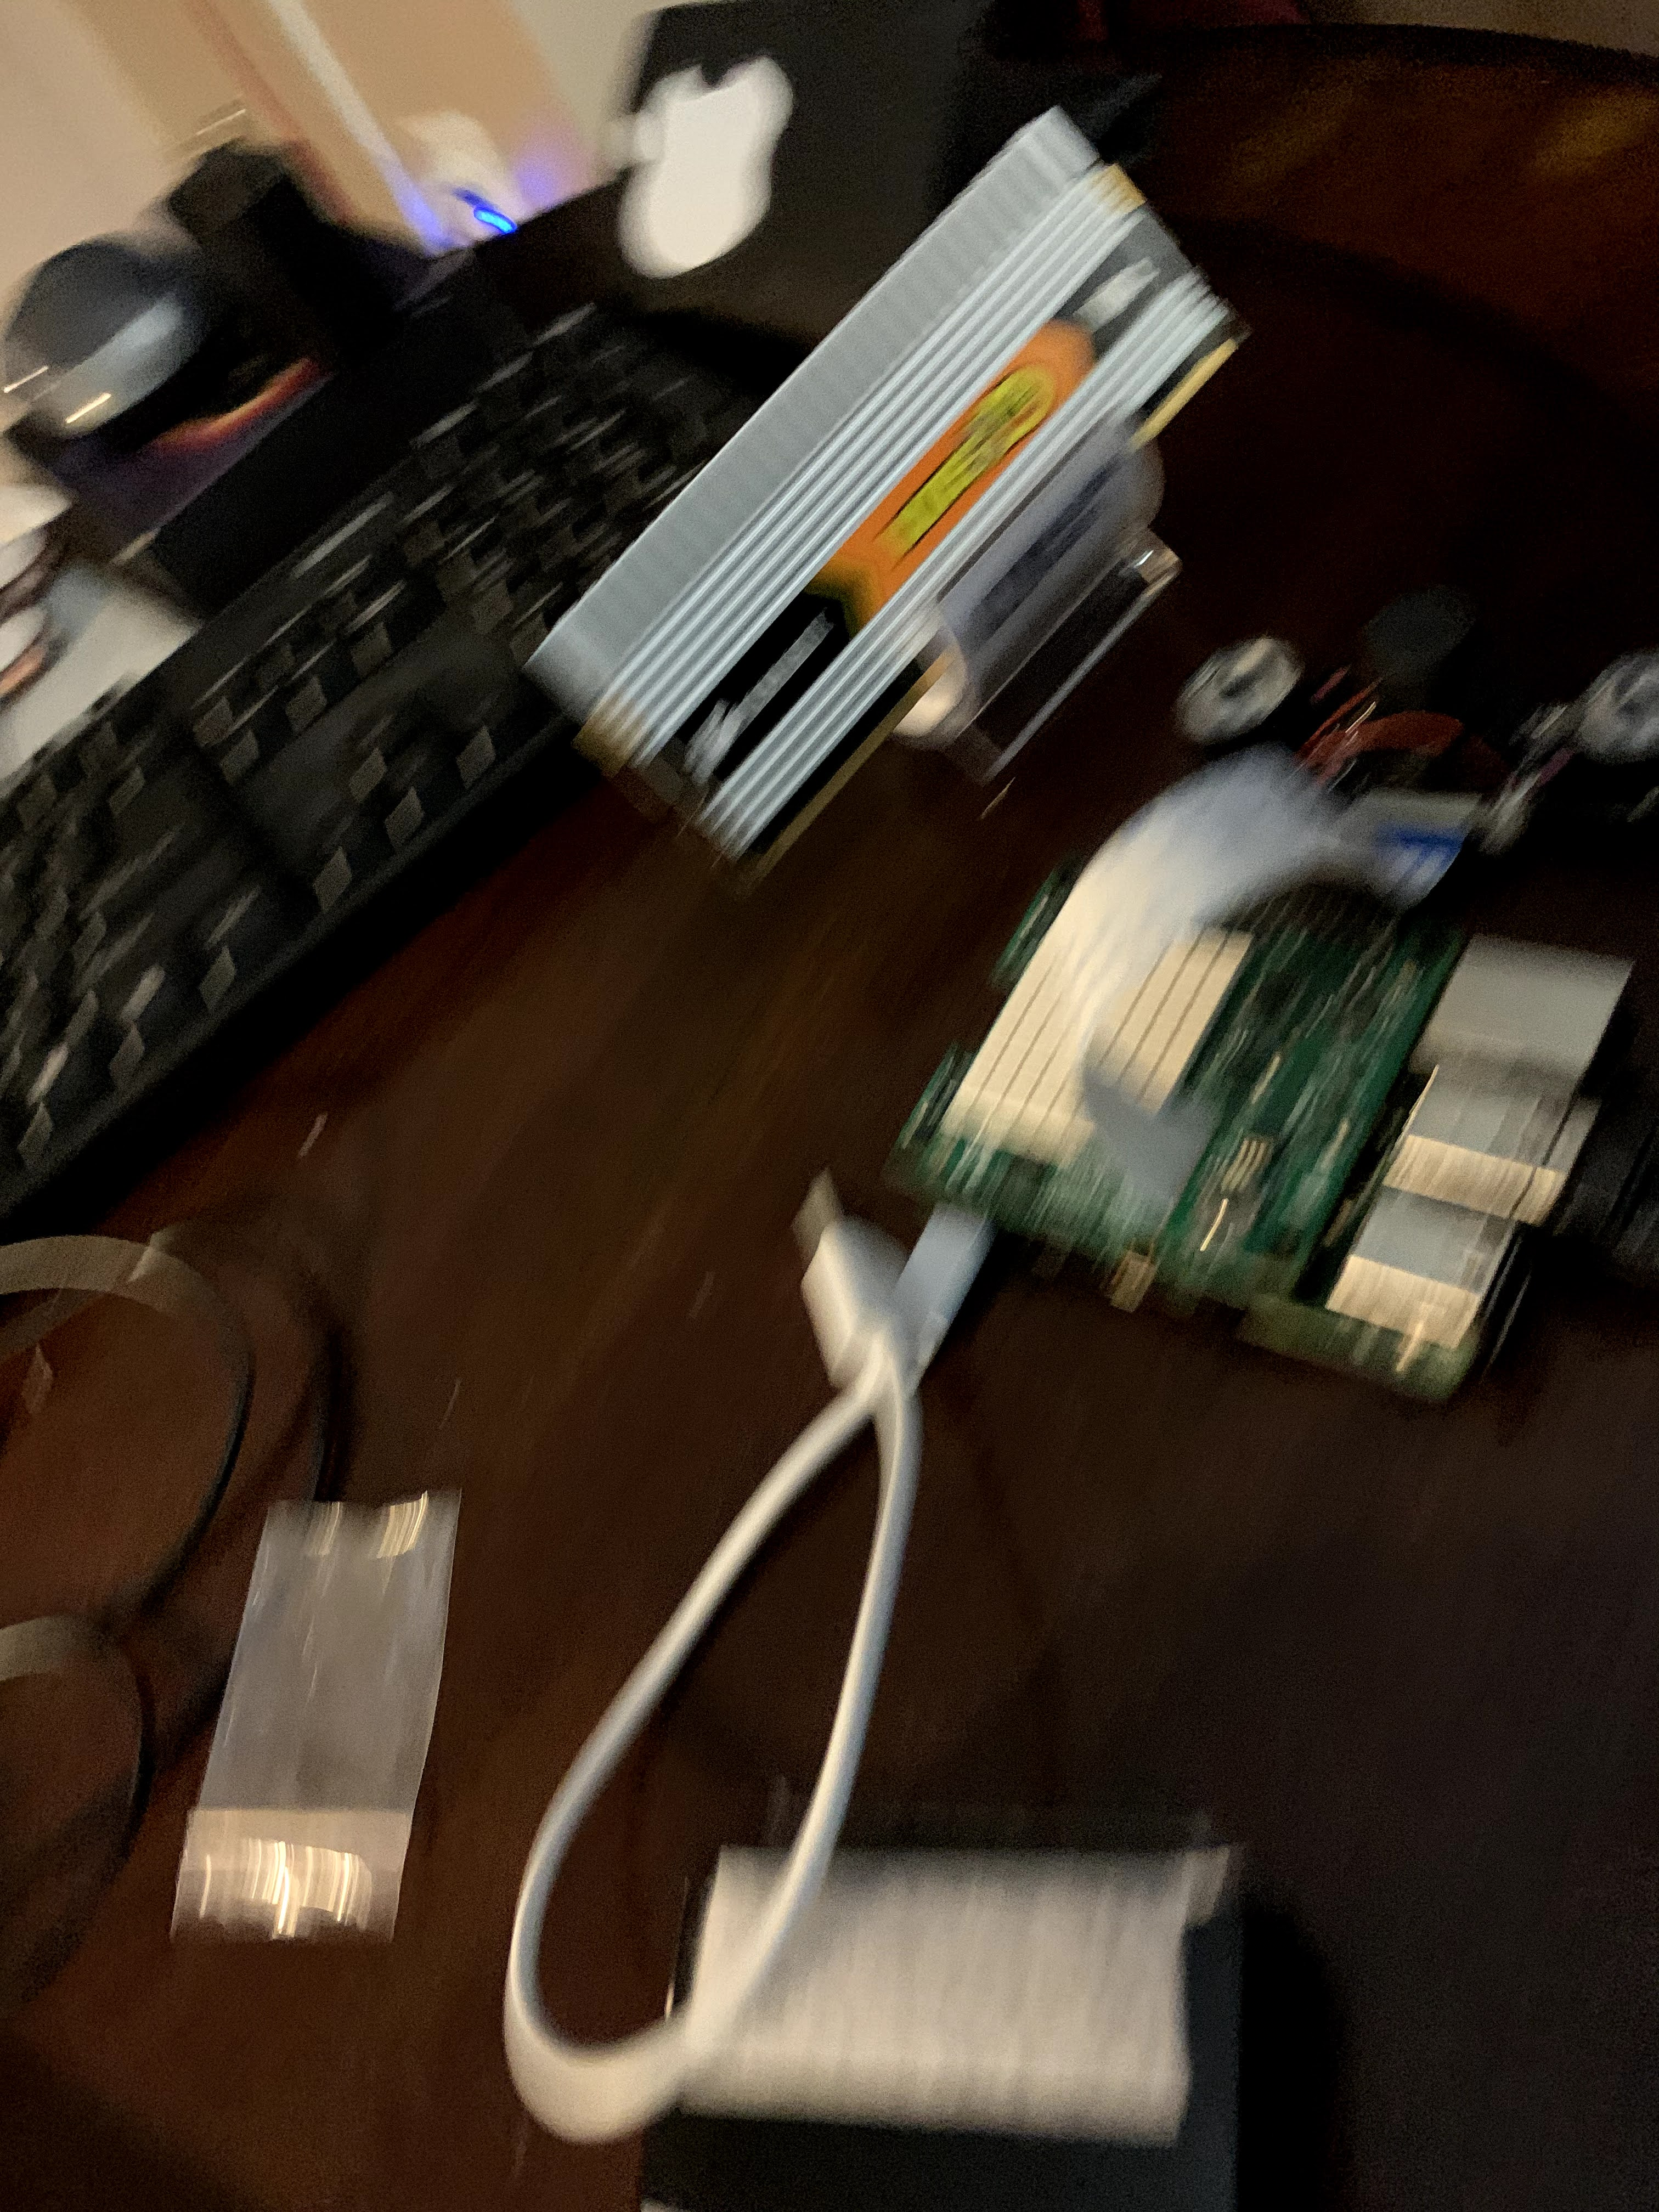Space-debris-medium: (479, 106, 1279, 860)
